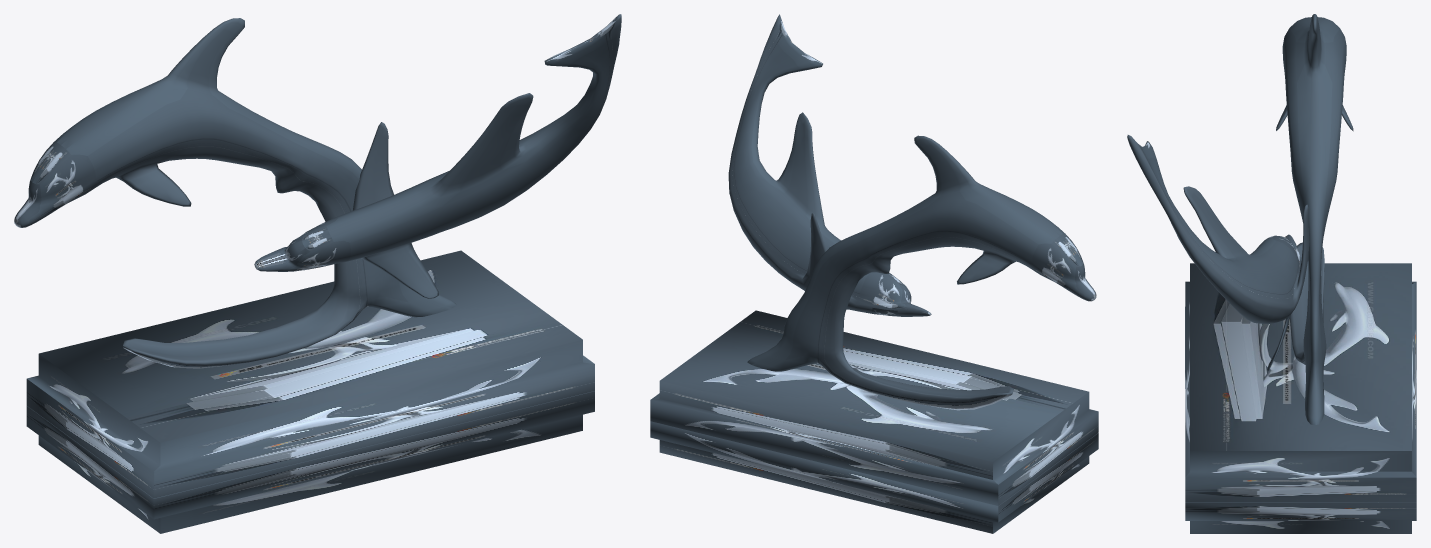
File: Museum.unity_3.obj
3 views of the same model, side by side, from view 1: azimuth 30°, elevation 25°; view 2: azimuth 150°, elevation 25°; view 3: azimuth 270°, elevation 25° (orthographic). The views are drawn at different scales.
Parts seen in each view (by area): view 1: objpCube5, objpolySur, objpolySu0; view 2: objpCube5, objpolySur, objpolySu0; view 3: objpCube5, objpolySur, objpolySu0.
Part boxes in pixels (x1,y1,x2,y2): objpCube5: (26, 250, 594, 533); objpolySur: (14, 18, 456, 368); objpolySu0: (254, 14, 621, 298); objpCube5: (650, 310, 1098, 533); objpolySur: (747, 135, 1096, 410); objpolySu0: (728, 14, 931, 316); objpCube5: (1185, 263, 1416, 533); objpolySur: (1276, 14, 1353, 424); objpolySu0: (1127, 135, 1309, 371).
Size of the model in its own units: 220 by 179 by 117.
1 material, 1 textured.
